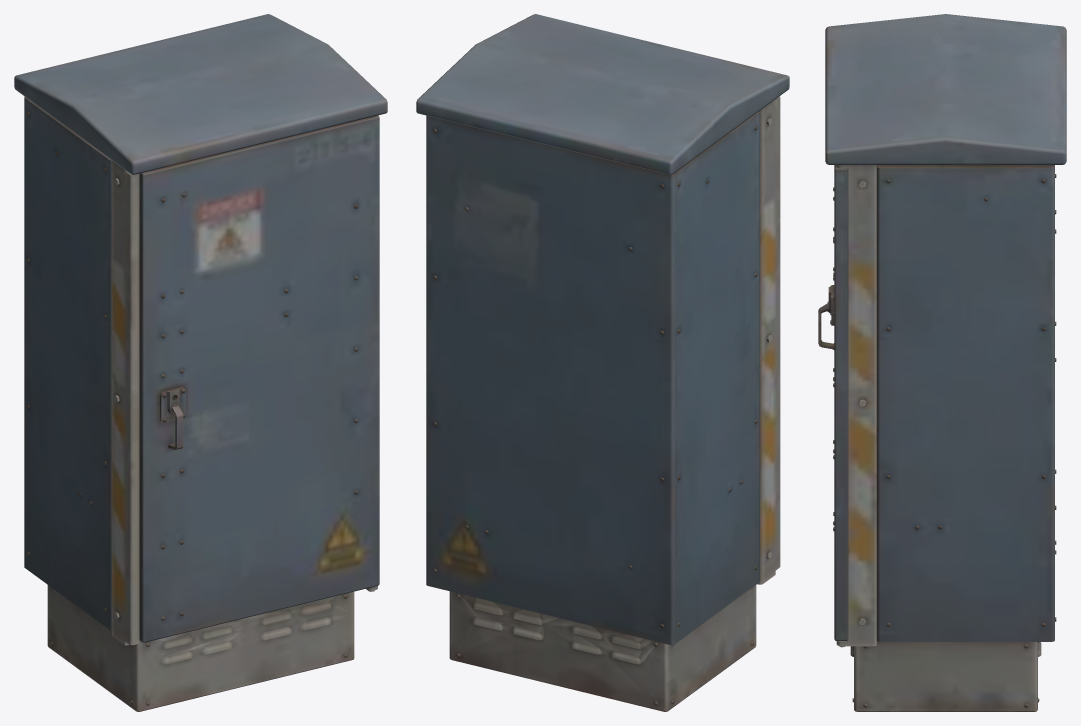
The model's file is utility_box_01.glb.
3 views of the same model, side by side, from view 1: azimuth 30°, elevation 25°; view 2: azimuth 150°, elevation 25°; view 3: azimuth 270°, elevation 25° (orthographic).
Parts seen in each view (by area): view 1: utility_box_01_box; view 2: utility_box_01_box; view 3: utility_box_01_box.
Boxes of the visible parts, left/top/right/bottom form: utility_box_01_box: left=14, top=14, right=387, bottom=711; utility_box_01_box: left=416, top=14, right=789, bottom=711; utility_box_01_box: left=818, top=14, right=1066, bottom=711.
Bounding box in the file's own units: 0.52 × 1.12 × 0.4319.
1 material, 1 textured.
